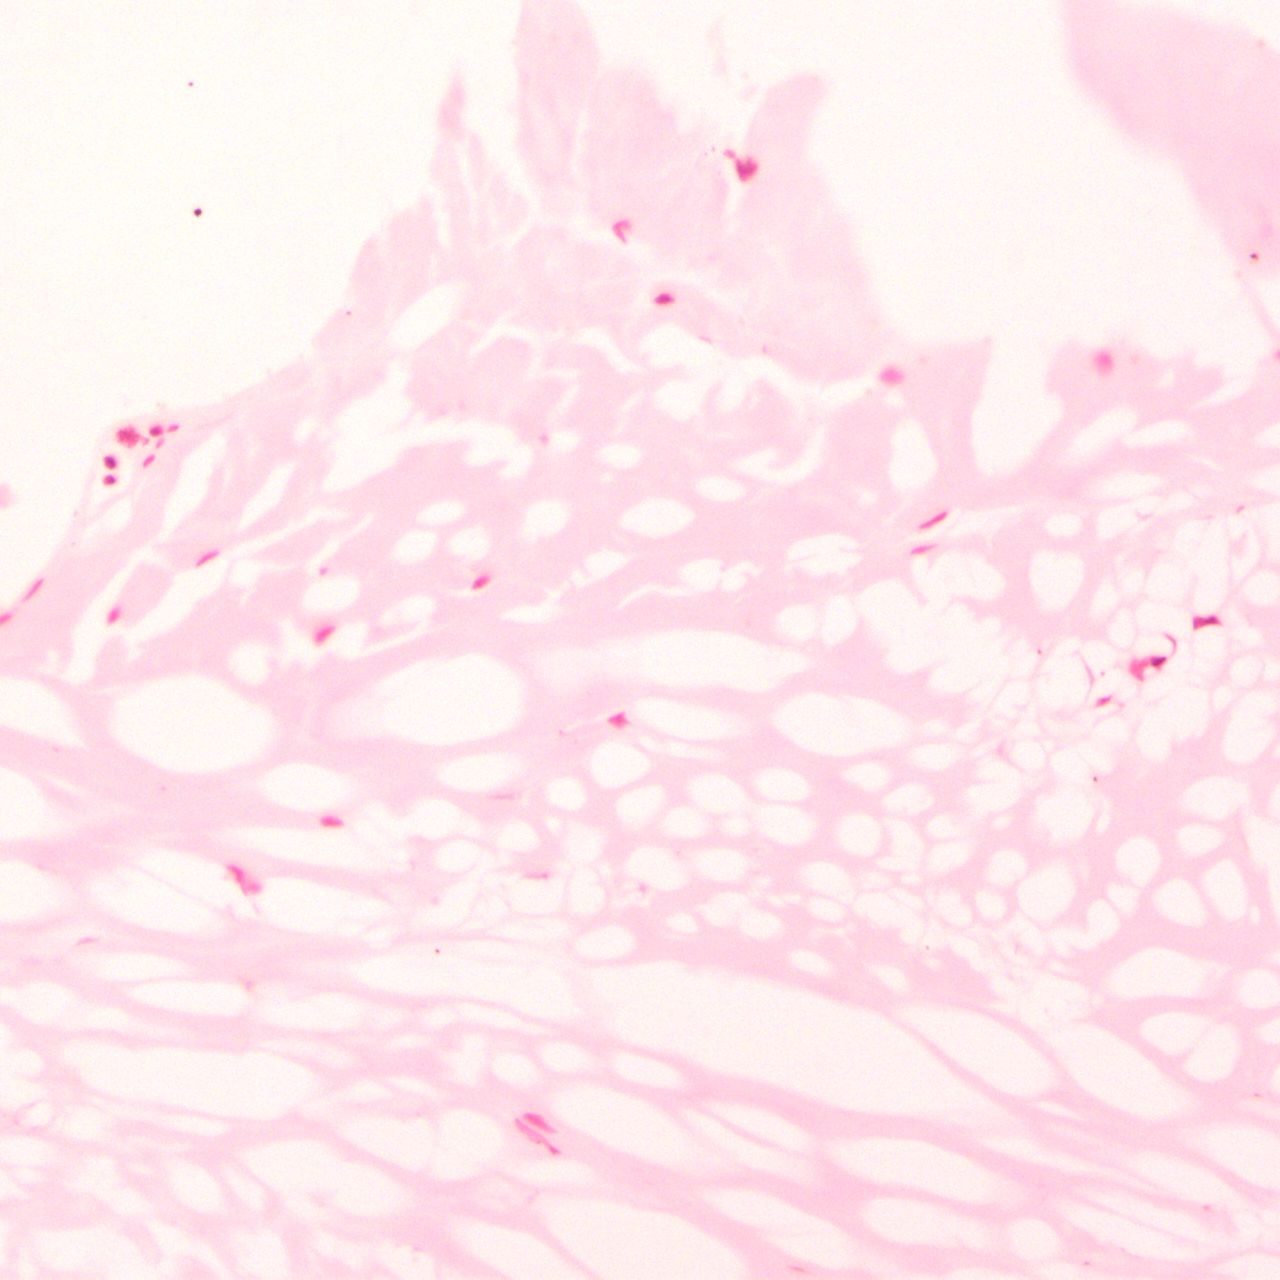dust: (192, 206, 203, 217), (186, 79, 195, 88), (433, 947, 441, 954), (1091, 776, 1098, 783), (1250, 253, 1258, 259), (924, 944, 930, 949), (1037, 649, 1042, 655)
nucleus-AC: (510, 1116, 561, 1159), (719, 139, 763, 186), (223, 856, 263, 899), (520, 1104, 559, 1139), (19, 574, 47, 604), (610, 215, 636, 245), (1189, 610, 1223, 632), (919, 509, 948, 533), (115, 425, 149, 447), (1126, 658, 1151, 685), (606, 706, 633, 730), (309, 622, 335, 645), (908, 539, 939, 558), (195, 547, 219, 570), (1094, 350, 1114, 375), (878, 366, 904, 384), (1091, 692, 1115, 712), (469, 572, 491, 592), (103, 606, 123, 627), (522, 871, 553, 881), (139, 452, 157, 470), (318, 816, 343, 828), (1149, 654, 1167, 668), (652, 292, 674, 304), (102, 455, 117, 469), (103, 474, 115, 486), (149, 425, 164, 435)
